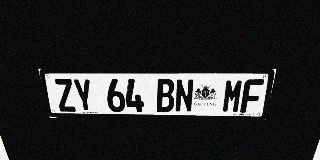4: (124, 79, 144, 112)
6: (105, 79, 126, 112)
B: (156, 79, 175, 112)
F: (240, 79, 264, 113)
M: (221, 79, 244, 113)
N: (175, 79, 194, 112)
Y: (72, 79, 95, 112)
Z: (53, 79, 77, 112)
